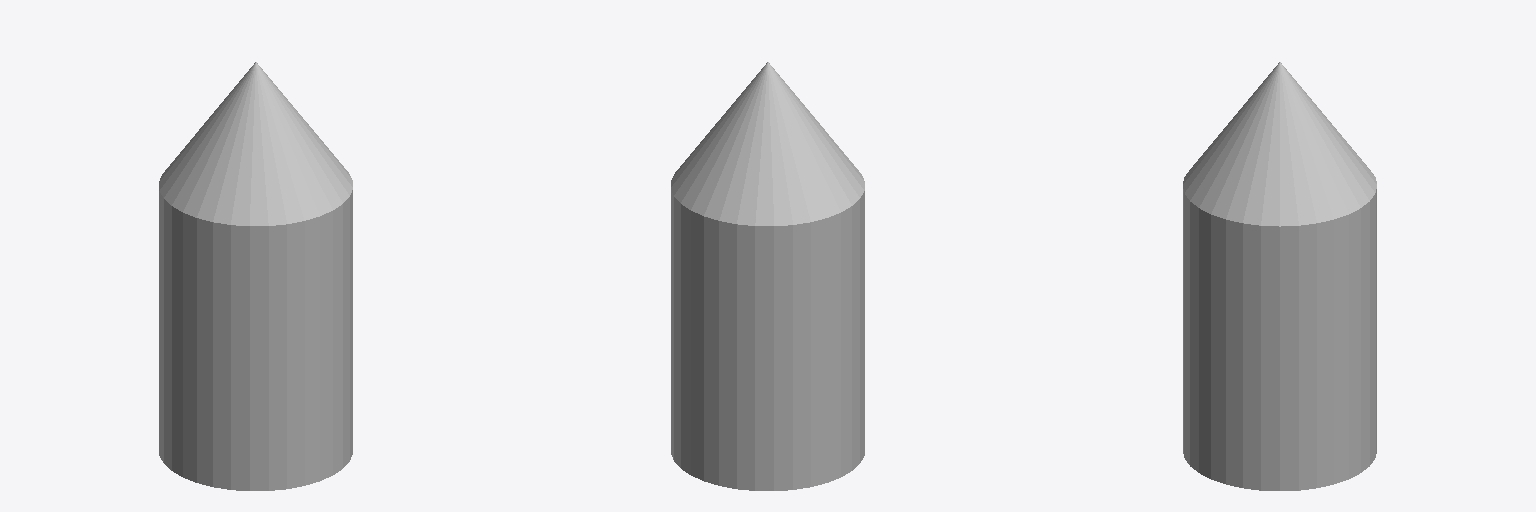
The model's file is strangeobject.obj.
The picture shows the model from 3 angles: view 1: azimuth 30°, elevation 25°; view 2: azimuth 150°, elevation 25°; view 3: azimuth 270°, elevation 25°; orthographic projection.
Parts seen in each view (by area): view 1: Цилиндр, Конус; view 2: Цилиндр, Конус; view 3: Цилиндр, Конус.
Boxes of the visible parts, x1,y1,x2,y2 form: Цилиндр: [159, 190, 352, 490]; Конус: [159, 62, 352, 225]; Цилиндр: [671, 190, 864, 490]; Конус: [671, 62, 864, 225]; Цилиндр: [1183, 189, 1376, 490]; Конус: [1183, 62, 1376, 226].
Size of the model in its own units: 2 by 4.4 by 2.